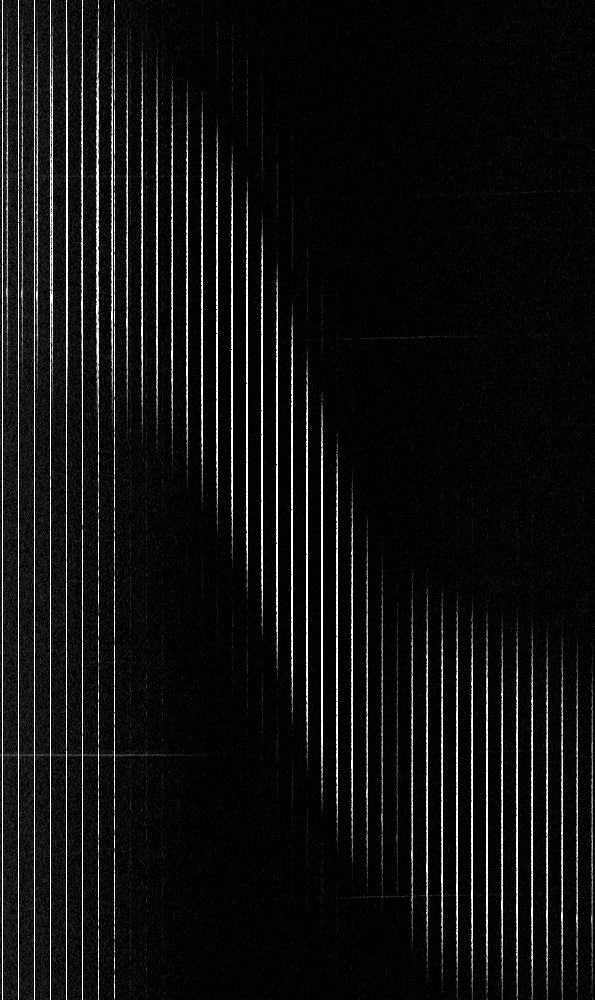signal: (0, 0, 594, 999)
